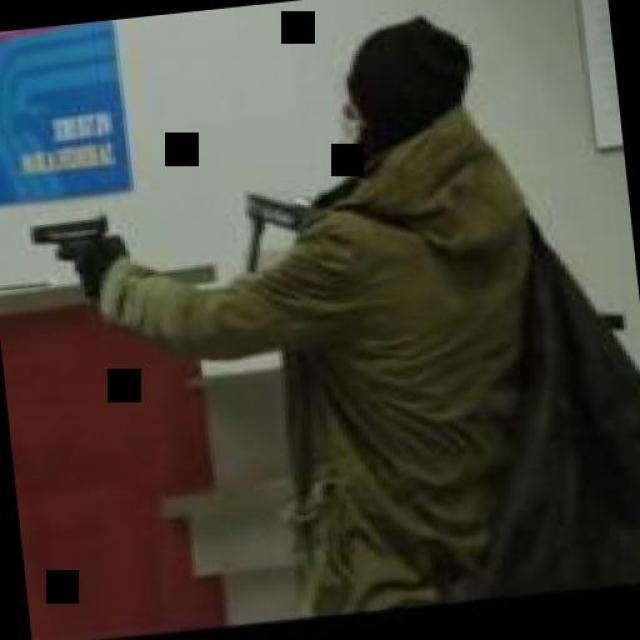gun: (22, 207, 122, 295)
